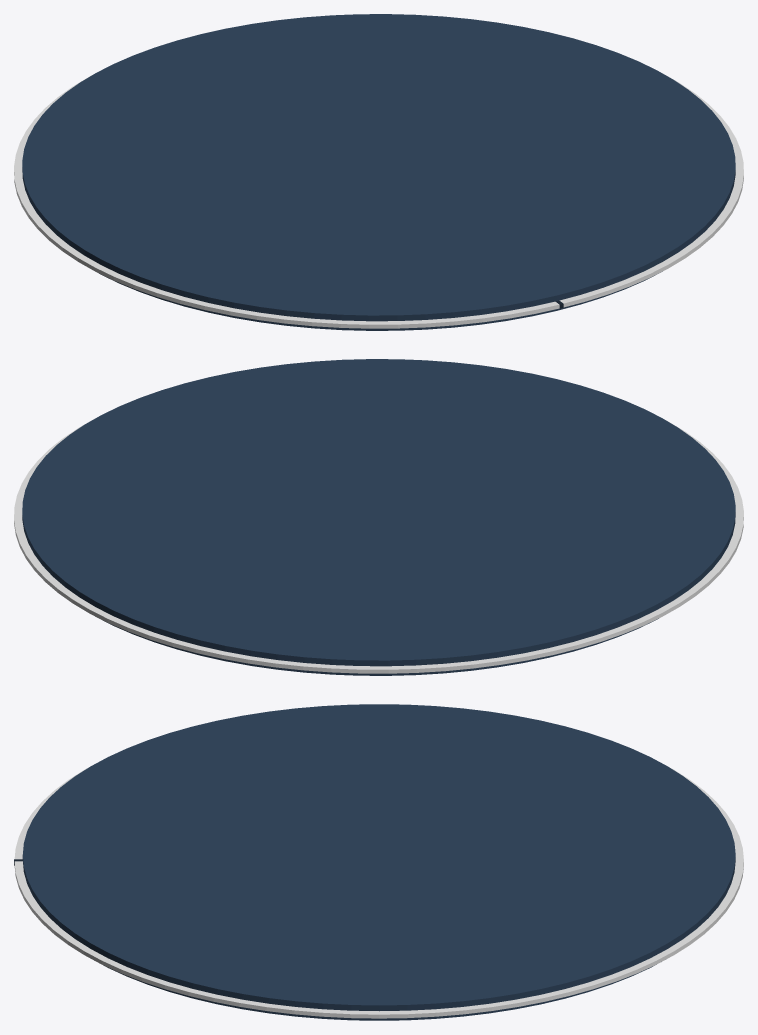
The model's file is thick_yaw_handle.glb.
3 views of the same model, one above another, from view 1: azimuth 30°, elevation 25°; view 2: azimuth 150°, elevation 25°; view 3: azimuth 270°, elevation 25° (orthographic).
Parts seen in each view (by area): view 1: Base hole.007, Thick Yaw.001; view 2: Base hole.007, Thick Yaw.001; view 3: Base hole.007, Thick Yaw.001.
Boxes of the visible parts, <box> form: Base hole.007: <box>22,14,735,330</box>; Thick Yaw.001: <box>14,73,743,328</box>; Base hole.007: <box>22,359,735,675</box>; Thick Yaw.001: <box>14,418,743,673</box>; Base hole.007: <box>22,704,735,1020</box>; Thick Yaw.001: <box>14,767,743,1018</box>.
Size of the model in its own units: 2.01 by 0.0467 by 2.01.
